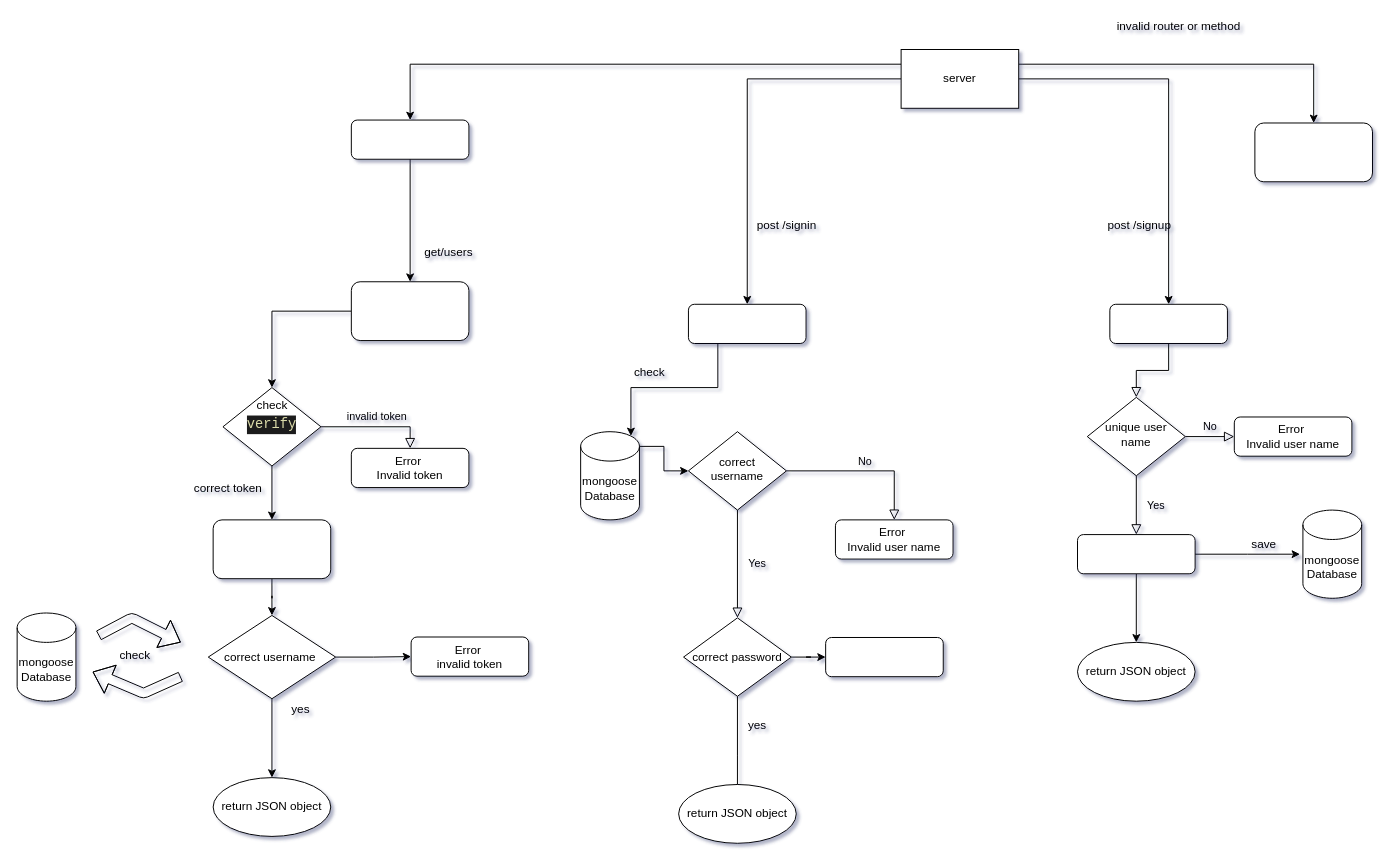
Some shapes in this 1396 by 866 pixel diagram are drawn without their labels. The box of each missing label's shape, as (x1, y1, x2, y2) in pixels:
Error incorrect password: (825, 637, 943, 677)
error not found 404: (1254, 122, 1372, 182)
get user bearer Auth: (350, 119, 469, 159)
Hash the password: (1077, 534, 1195, 574)
payload: (212, 519, 331, 579)
read the token: (350, 281, 469, 341)
sign in basic Auth: (687, 303, 806, 343)
sign up: (1109, 303, 1227, 343)
